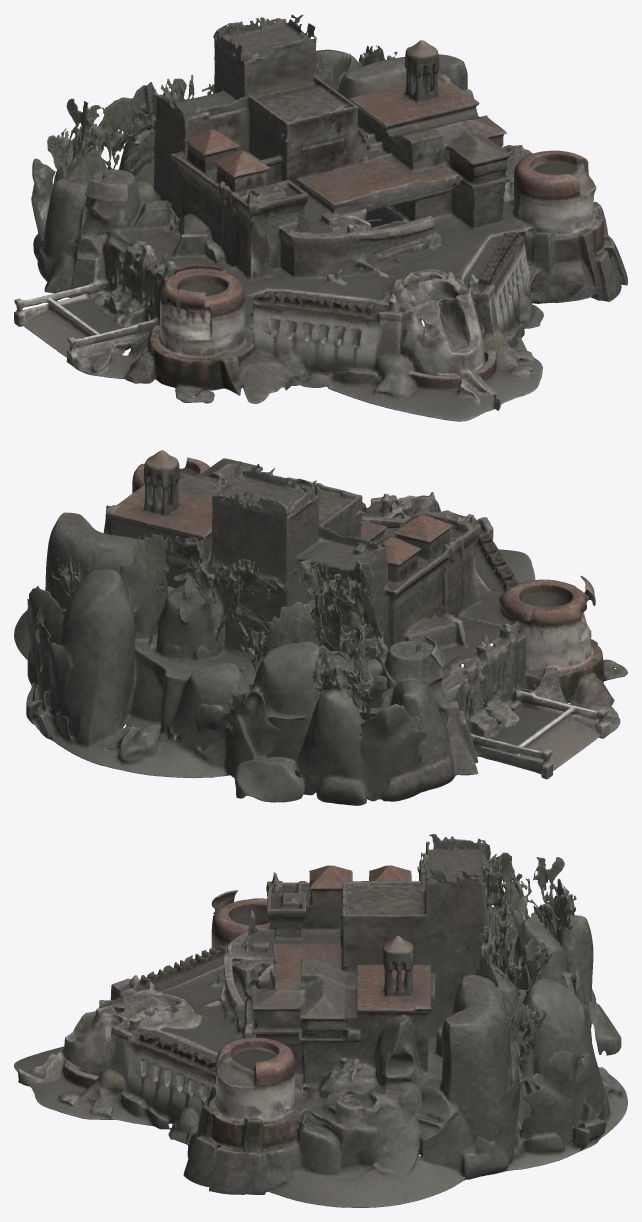
File: fort3.glb
The picture shows the model from 3 angles, top to bottom: view 1: azimuth 30°, elevation 25°; view 2: azimuth 150°, elevation 25°; view 3: azimuth 270°, elevation 25°; orthographic projection. The views are drawn at different scales.
Bounding box in the file's own units: 1.9 × 0.7797 × 1.9.
1 material, 1 textured.
